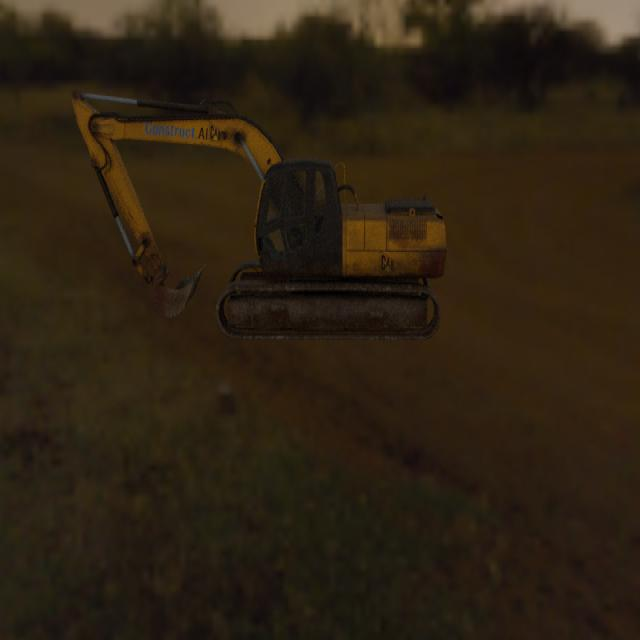excavator: (70, 88, 447, 340)
